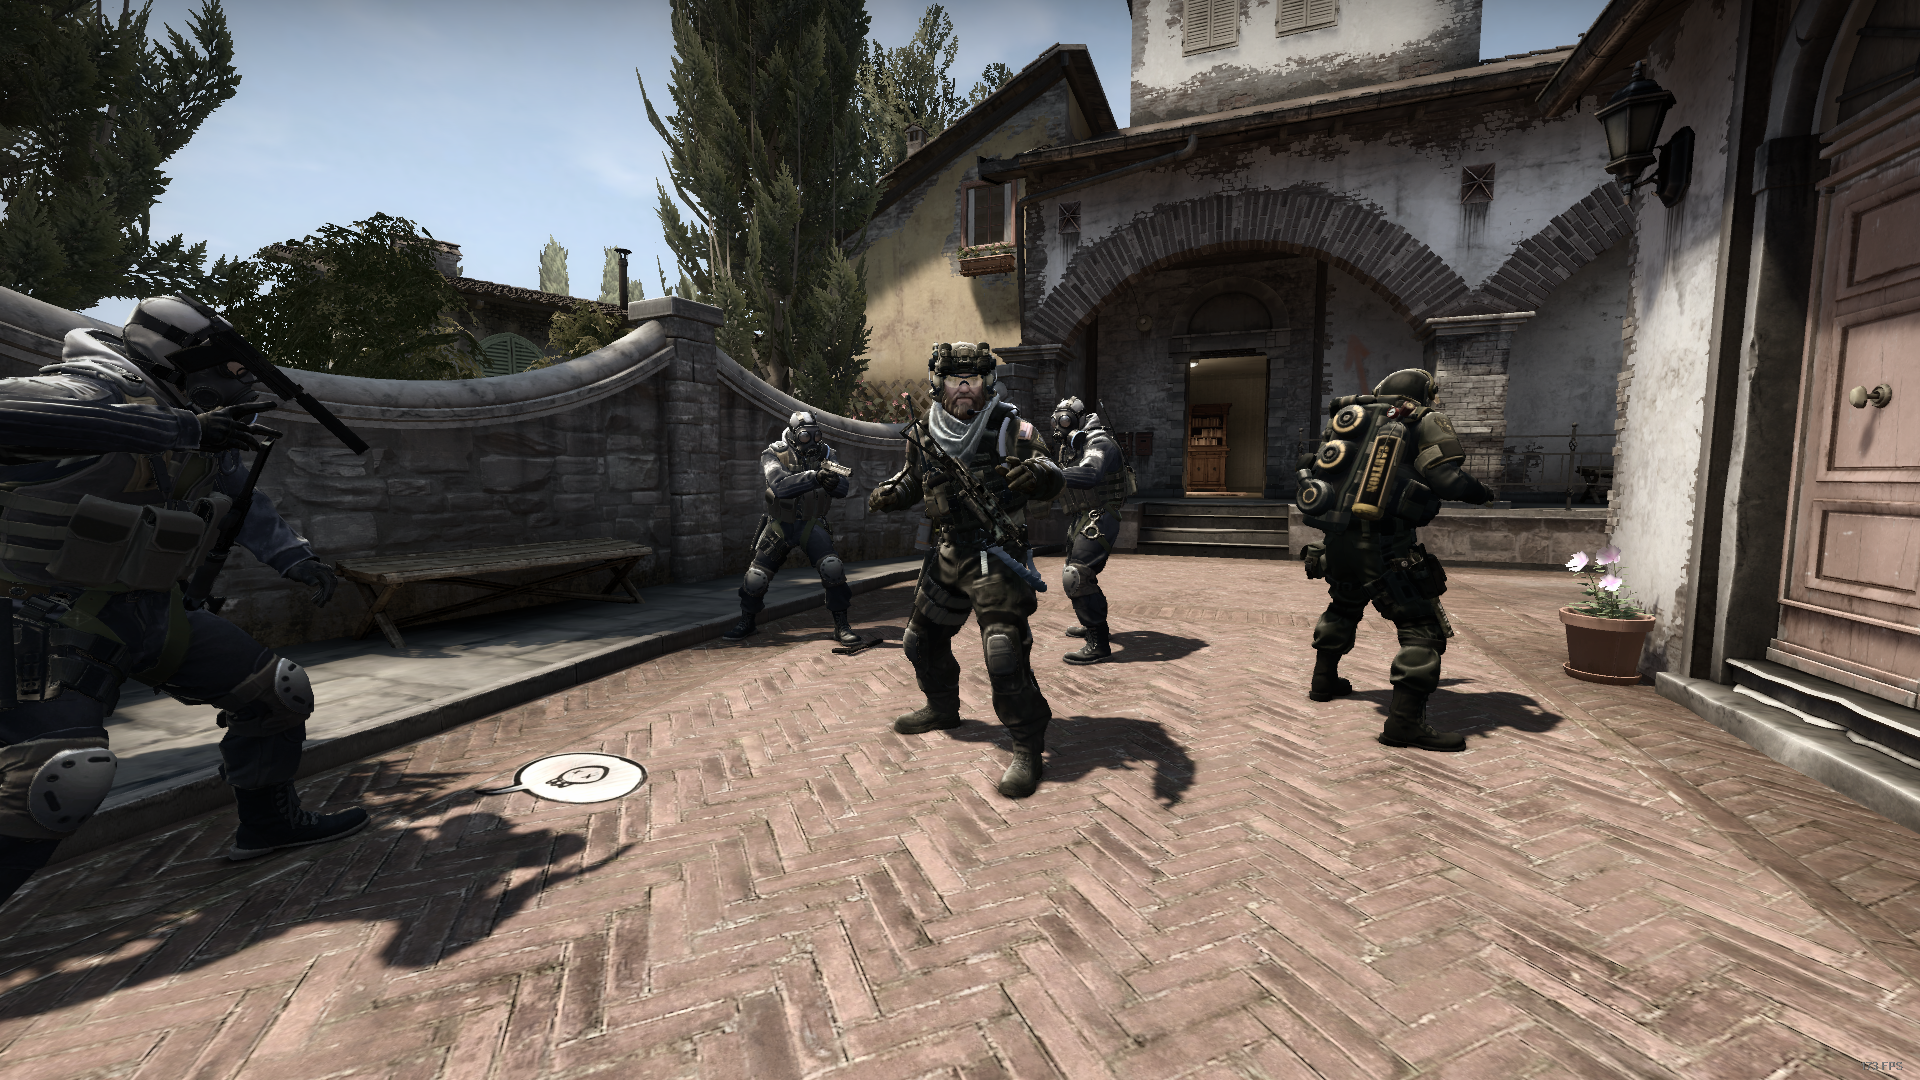ct: (1, 297, 375, 909), (1029, 400, 1142, 671), (735, 409, 857, 653)
